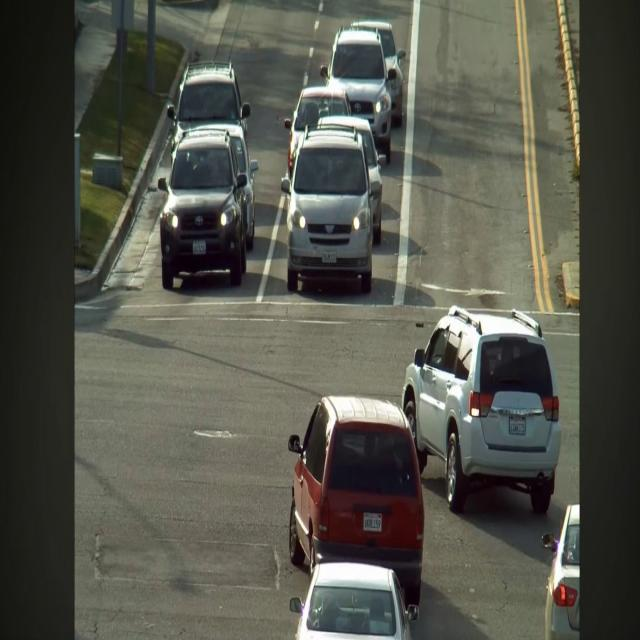car: (402, 306, 561, 513), (288, 396, 424, 605), (281, 126, 372, 293), (158, 128, 247, 289), (320, 27, 397, 163), (290, 562, 418, 639), (318, 116, 385, 245), (167, 61, 250, 147), (208, 124, 258, 250), (284, 87, 350, 175), (351, 20, 405, 127), (541, 504, 579, 639)
